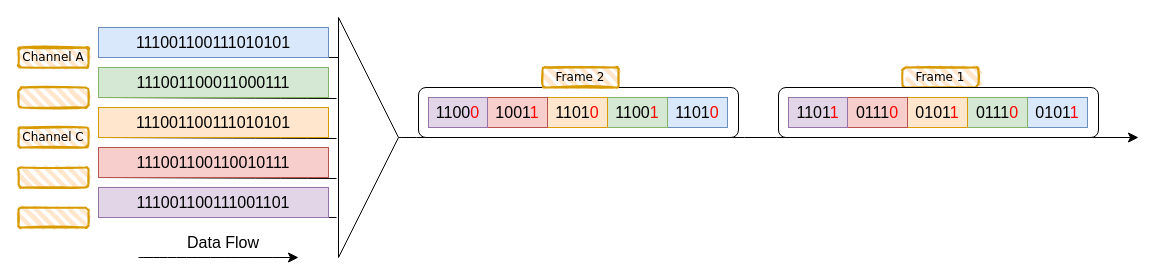
The diagram is 1155 pixels wide and 280 high, and some of its shapes have lost their labels. The centre of each missing label's shape, as x and y in pixels:
"Channel B" goes at (x=53, y=97).
"Channel D" goes at (x=53, y=177).
"Channel E" goes at (x=53, y=217).
"TDM MUX" goes at (x=368, y=137).
